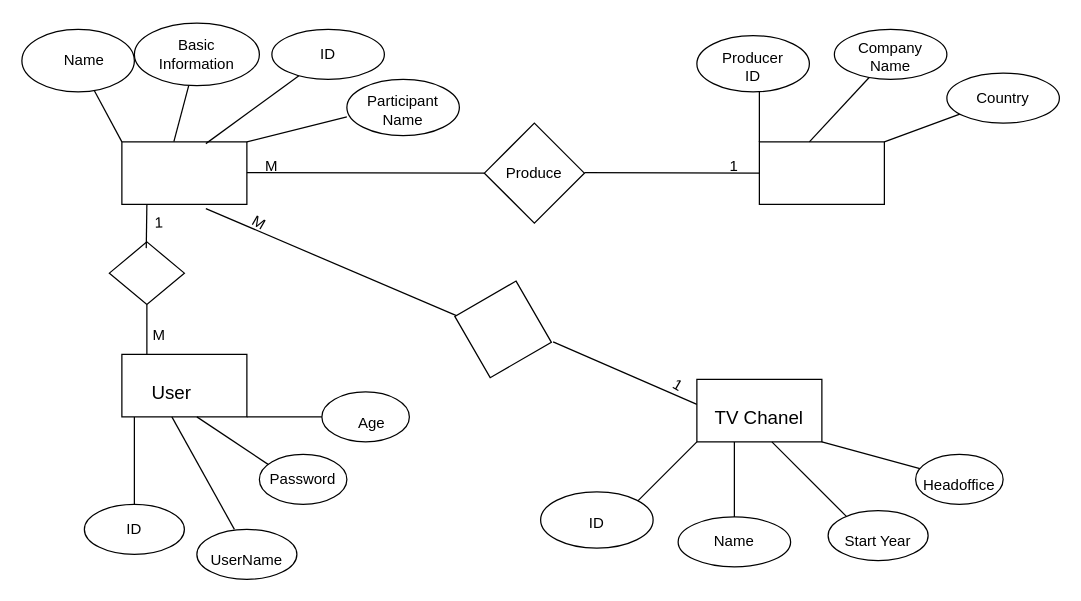
Image size: 1081x601. Some labels were removed from this diagram. Here are the shapes that lost their labels. From the top down, the centre of each, then its label:
At (184,172): "Reality Show".
At (821,172): "Producer".
At (146,272): "Rate".
At (502,329): "Broadcast".
